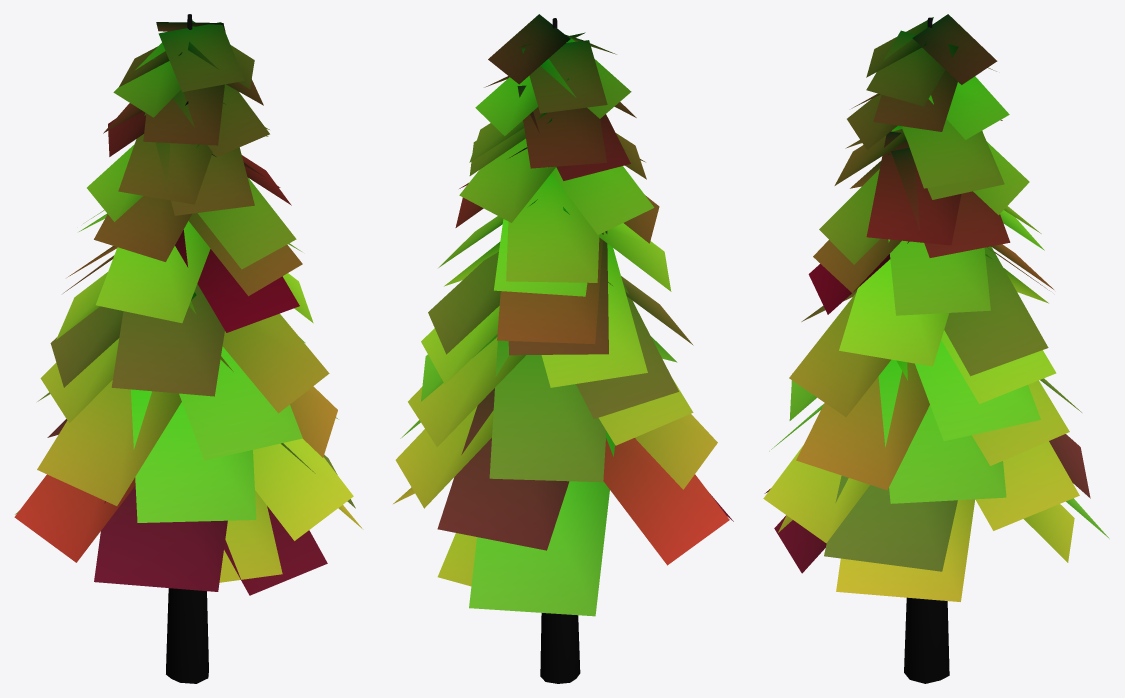
Rendered from Tree_6.fbx.
3 renders of one model, left to right at view 1: azimuth 30°, elevation 25°; view 2: azimuth 150°, elevation 25°; view 3: azimuth 270°, elevation 25°, orthographic.
Visible parts, largest first — view 1: Tree_6; view 2: Tree_6; view 3: Tree_6.
Part boxes in pixels (x1=…): Tree_6: x1=14, y1=14, x2=363, y2=683; Tree_6: x1=393, y1=14, x2=733, y2=683; Tree_6: x1=763, y1=14, x2=1109, y2=683.
Size of the model in its own units: 921 by 1983 by 949.
